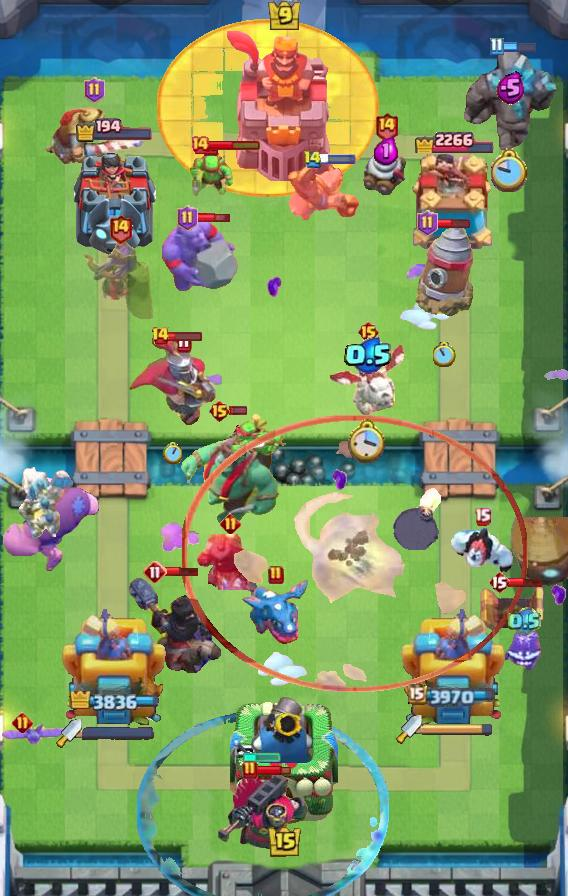archer-queen: (162, 214, 240, 294)
baby-dragon: (392, 488, 444, 550)
balloon: (0, 475, 102, 575)
bar: (62, 601, 166, 731), (401, 601, 505, 731)
barbarian: (0, 724, 72, 750)
barbarian-hut: (81, 239, 159, 325)
cannoneer-tower: (461, 52, 559, 154)
electro-spirit: (343, 337, 392, 374), (495, 71, 524, 105), (507, 607, 540, 636), (374, 137, 398, 165)
elixir: (348, 417, 388, 463), (491, 148, 529, 192), (432, 341, 455, 366), (162, 442, 182, 464)
emote: (208, 139, 261, 151), (502, 39, 538, 52), (197, 212, 232, 225), (167, 330, 203, 342), (437, 217, 472, 229), (256, 764, 291, 776), (164, 567, 200, 578), (508, 577, 544, 588), (319, 154, 357, 164), (228, 404, 248, 415)
freeze: (285, 163, 361, 225)
giant-snowball: (187, 149, 235, 199)
goblin-brawler: (476, 585, 548, 633)
goblin-drill: (363, 141, 409, 195)
graveyard: (241, 577, 311, 645)
ice-spirit: (242, 750, 284, 762)
inferno-dragon: (126, 575, 222, 673), (197, 534, 263, 606)
inferno-tower: (215, 770, 311, 856)
king-tower: (223, 31, 345, 181), (230, 692, 338, 826)
king-tower-bar: (422, 722, 494, 736), (82, 726, 154, 740)
lava-hound: (180, 412, 286, 530)
magic-archer: (414, 224, 474, 318)
mini-pekka: (328, 339, 408, 417), (13, 463, 77, 545)
pad_0: (137, 710, 389, 896)
phoenix-egg: (156, 19, 380, 198)
queen-tower: (405, 154, 501, 256), (71, 144, 157, 255)
rage: (447, 524, 517, 576)
ram-rider: (41, 104, 147, 170)
royal-ghost: (182, 416, 528, 693)
selected: (412, 126, 494, 154), (408, 685, 498, 708), (74, 117, 154, 142), (68, 691, 159, 711)
spear-goblin: (504, 626, 544, 670)
text: (108, 212, 133, 243), (373, 111, 398, 141), (143, 560, 167, 584), (83, 77, 105, 103), (356, 320, 379, 344), (209, 399, 232, 423), (178, 205, 199, 231), (417, 210, 438, 236), (488, 570, 510, 594), (220, 513, 241, 534), (11, 712, 32, 733), (190, 135, 210, 155), (150, 326, 170, 346), (303, 150, 322, 169), (268, 565, 284, 585), (242, 760, 258, 780), (474, 507, 491, 525), (488, 36, 503, 55)
wall-breaker-evolution: (126, 333, 218, 427)
x-bow: (508, 517, 568, 595)
